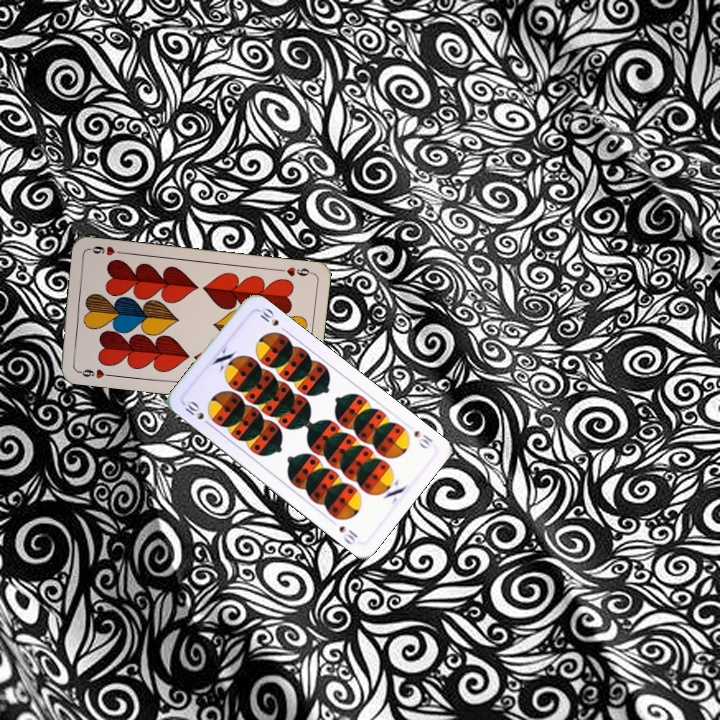H9: (274, 263, 315, 279), (73, 365, 114, 381)
S10: (181, 397, 214, 429), (410, 426, 436, 447)
